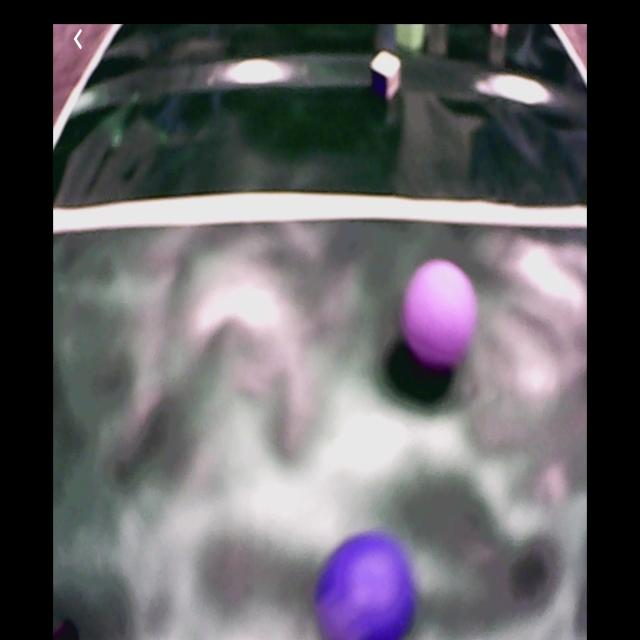ball: (314, 533, 418, 640), (402, 261, 478, 370)
